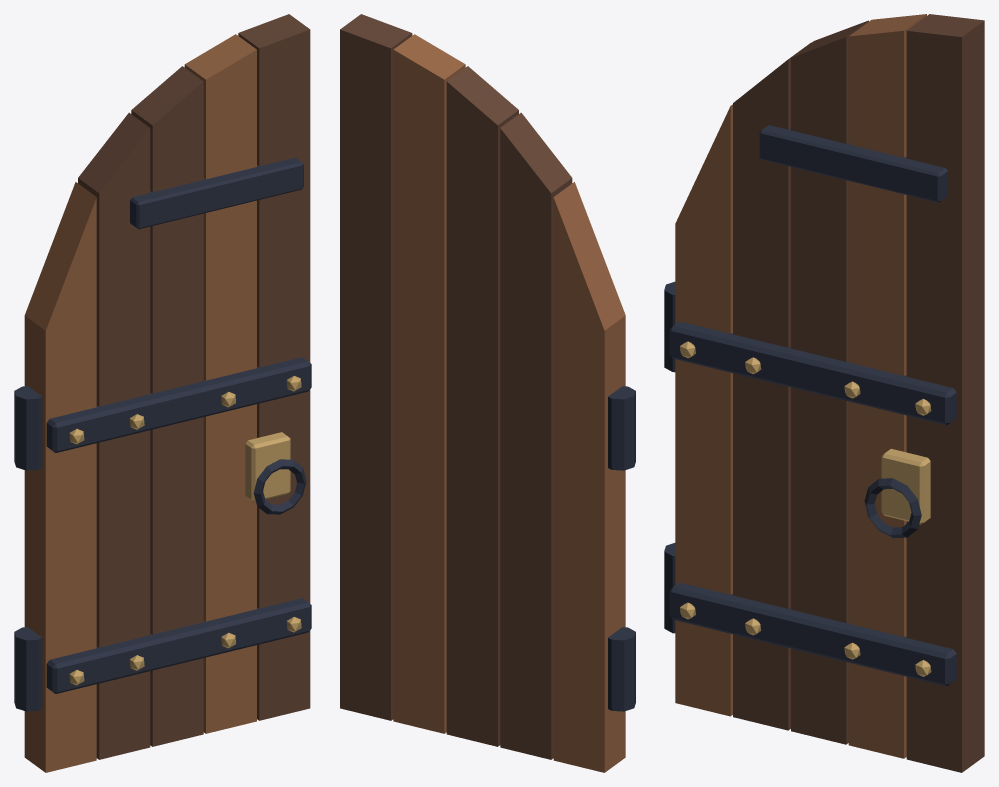
The model's file is EG_Puerta_Hoja_I.fbx.
3 renders of one model, left to right at view 1: azimuth 30°, elevation 25°; view 2: azimuth 150°, elevation 25°; view 3: azimuth 330°, elevation 25°, orthographic. The views are drawn at different scales.
Visible parts, largest first — view 1: EG_Puerta_Hoja_I; view 2: EG_Puerta_Hoja_I; view 3: EG_Puerta_Hoja_I.
Part boxes in pixels (x1=…): EG_Puerta_Hoja_I: x1=14, y1=14, x2=311, y2=772; EG_Puerta_Hoja_I: x1=340, y1=14, x2=635, y2=772; EG_Puerta_Hoja_I: x1=664, y1=14, x2=984, y2=772.
Size of the model in its own units: 1.08 by 2.48 by 0.268.
Materials: 1 (1 with a texture image).
